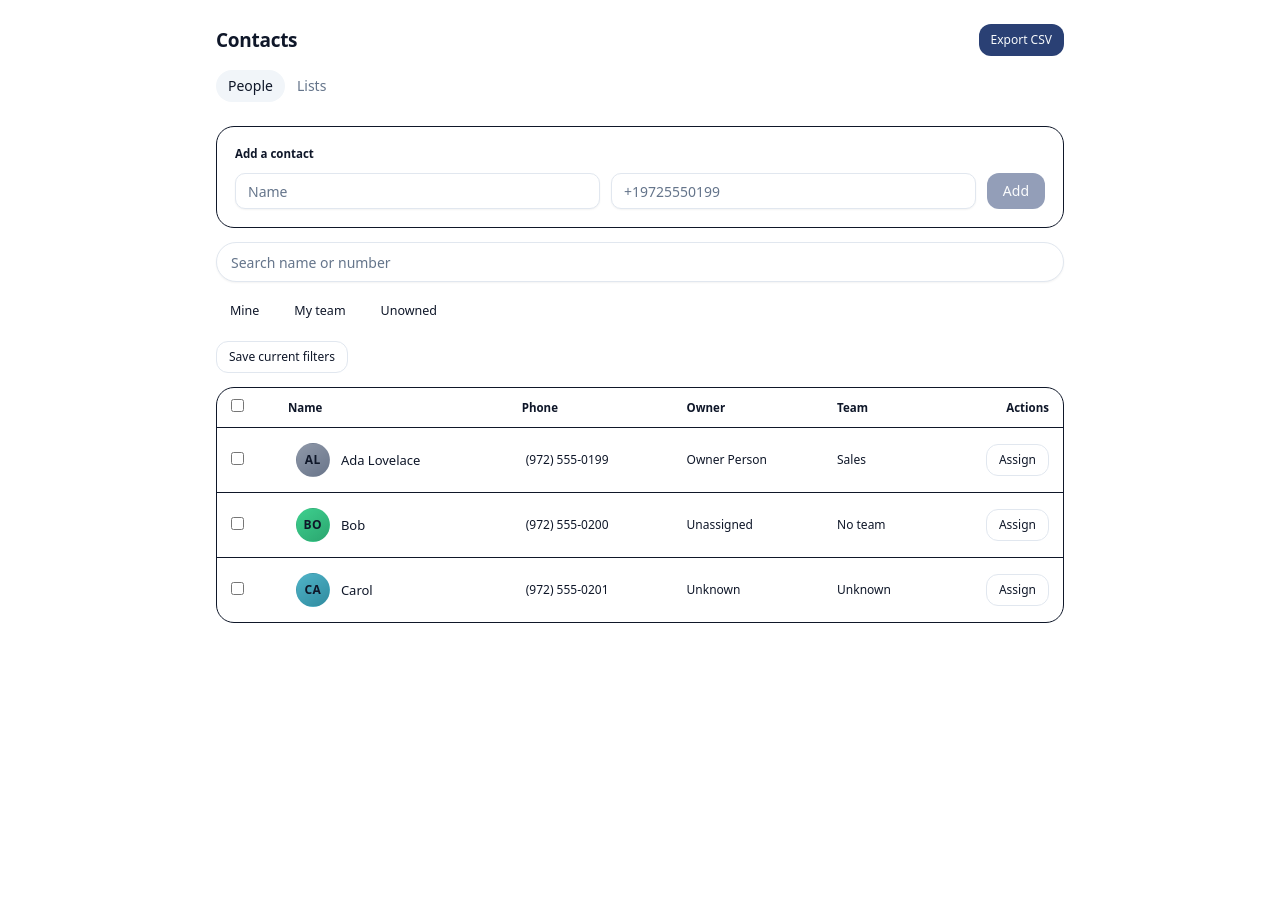
Test: ContactsPage › assigns a single contact via the row drawer
Expected: the button "AL Ada Lovelace" is shown, [288,439,428,481]
Click the button "Assign" in the row of "Owner Person" at coordinates (1017, 460), box [986,444,1049,476]
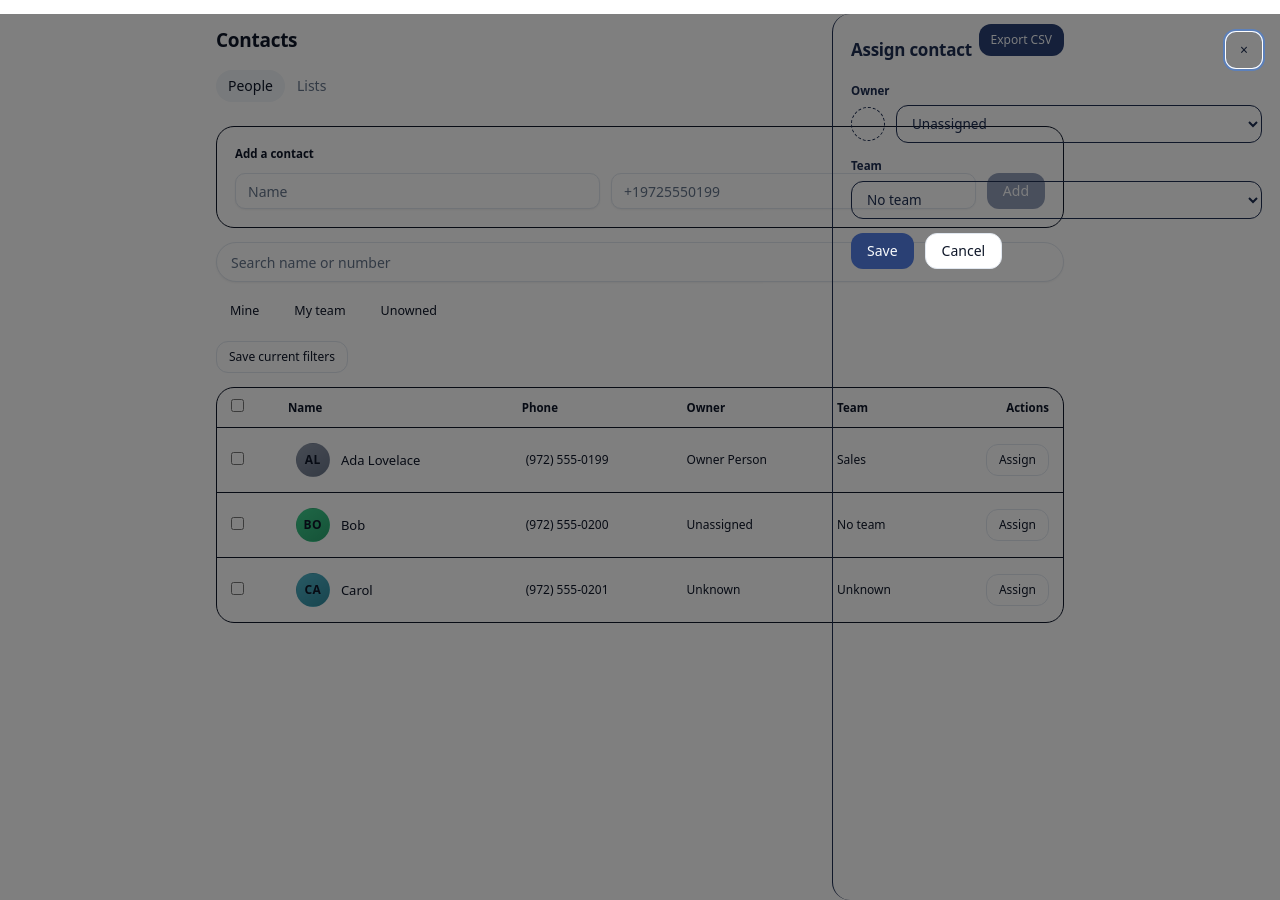
Now the dropdown labelled "Owner" is shown
Select "Agent Person" in the dropdown labelled "Owner" at coordinates (1079, 124), box [896,105,1262,143]
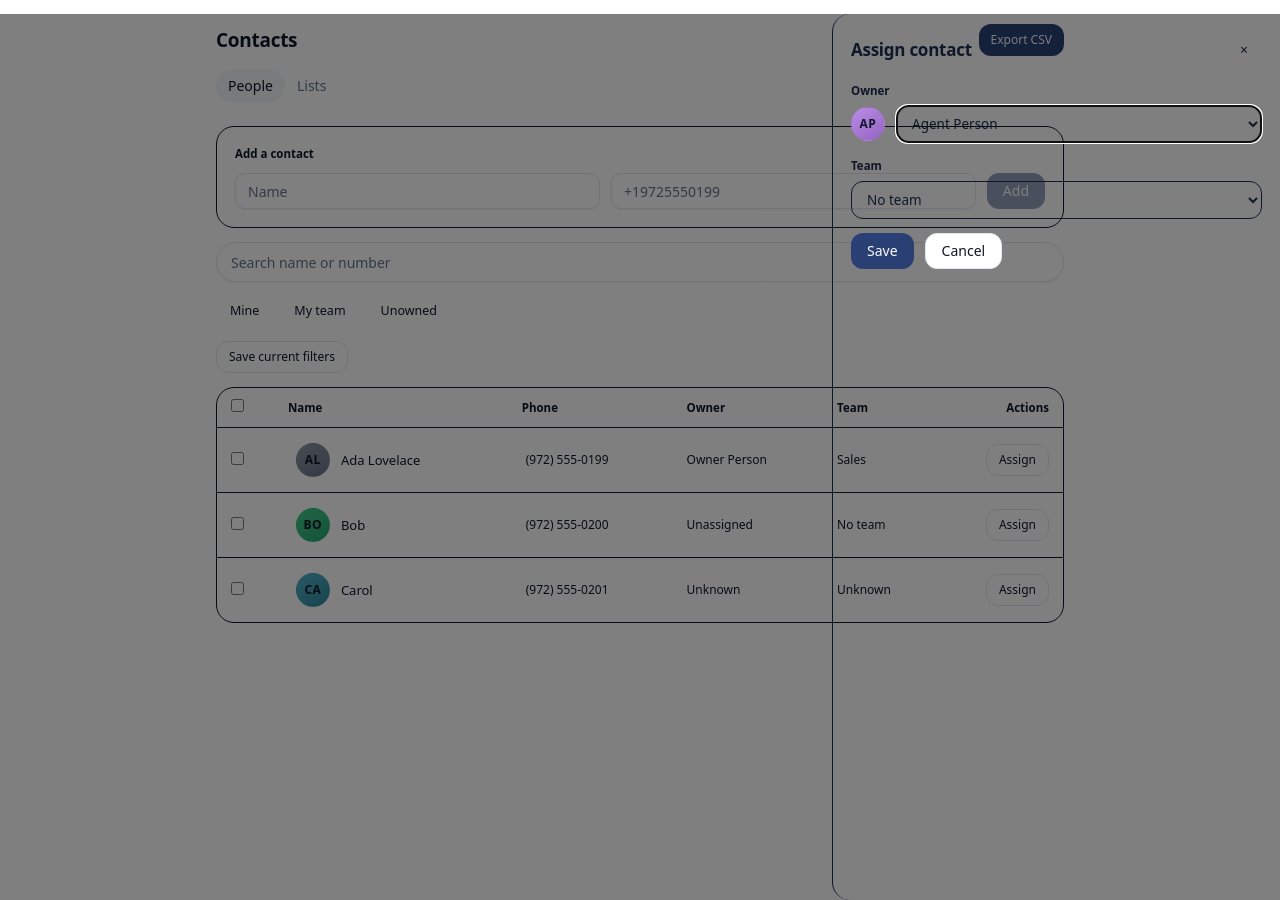
Select "Support" in the dropdown labelled "Team" at coordinates (1056, 200), box [851,180,1262,218]
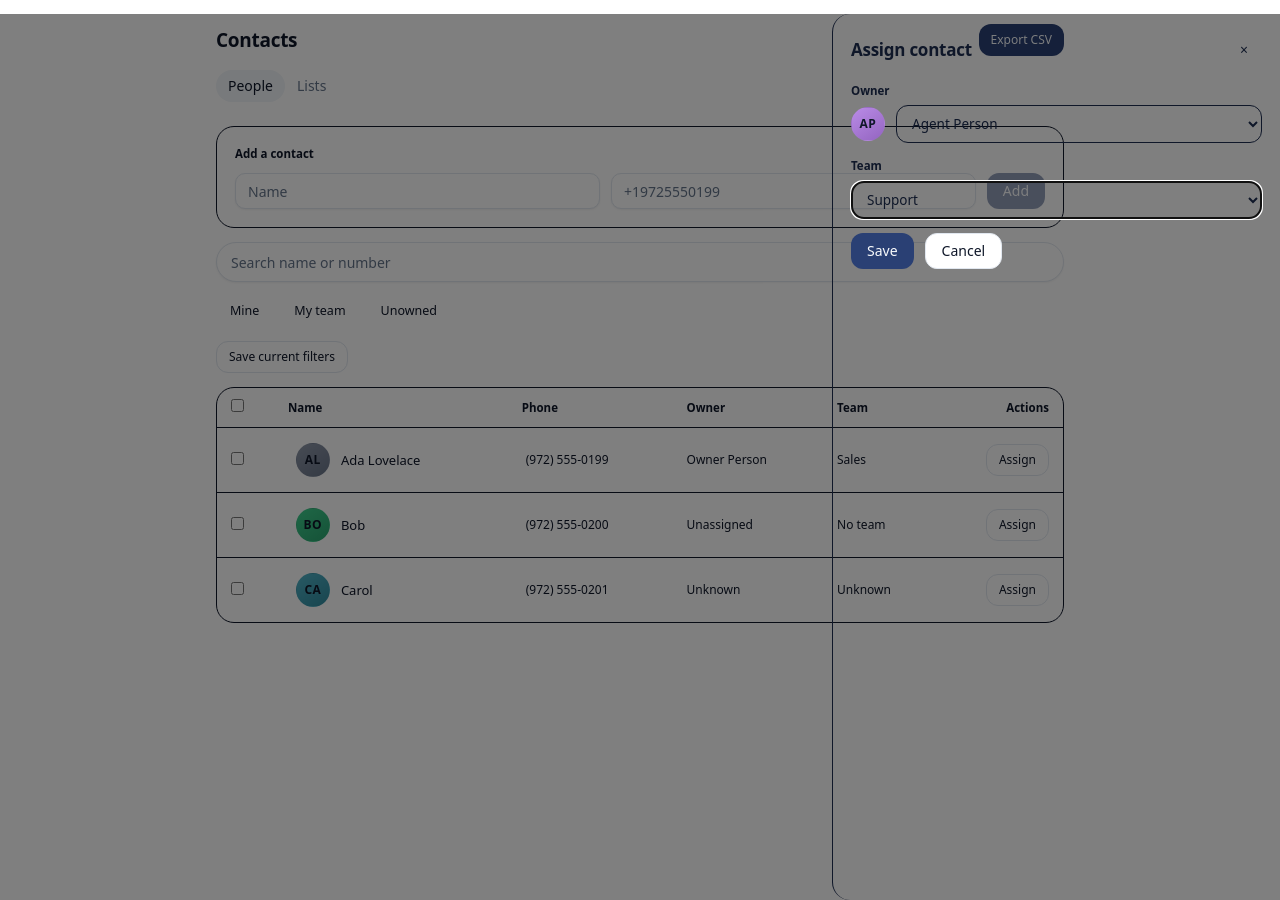
Click the button "Save" at coordinates (882, 250), box [851,232,914,268]
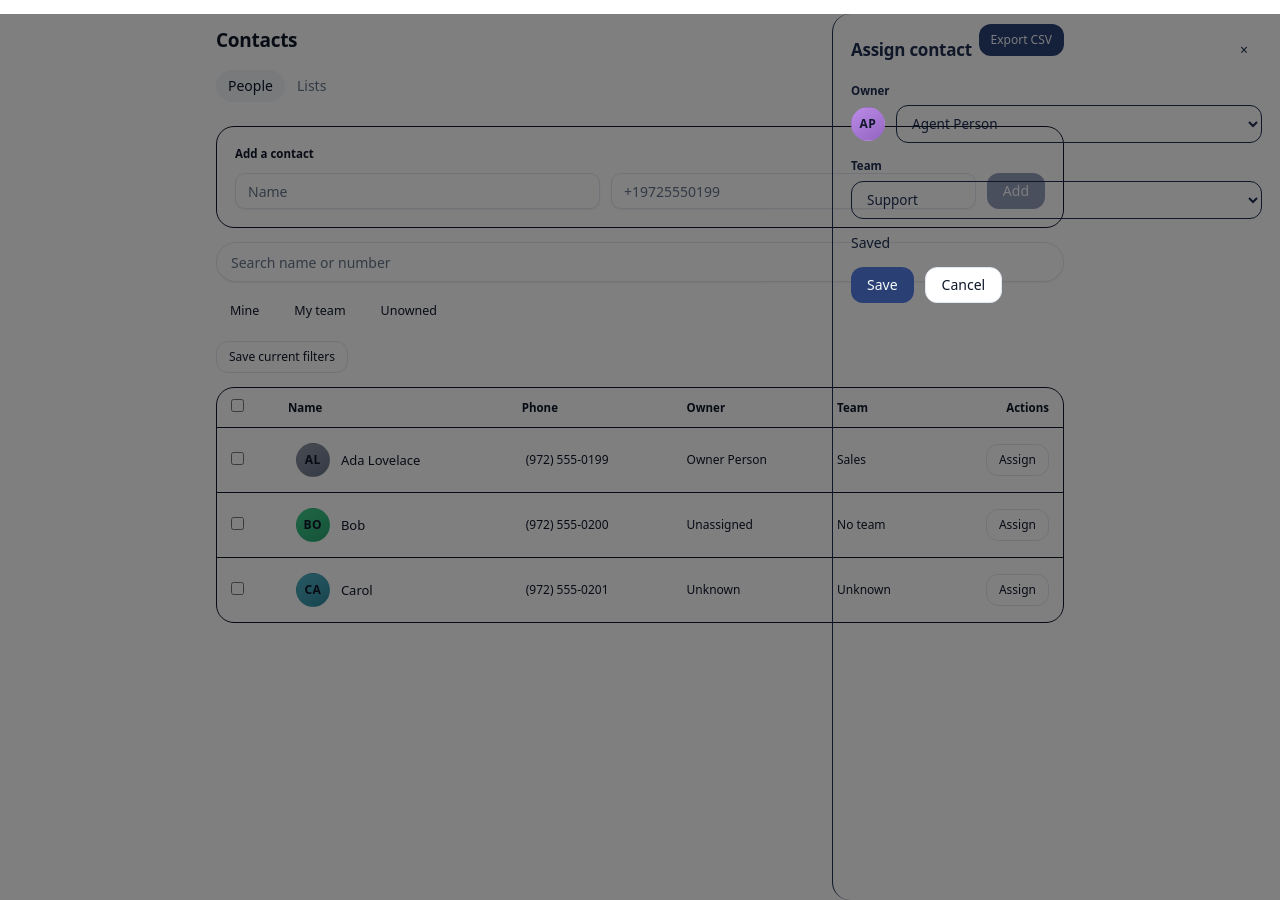
Now the text "Saved" is shown, box [851,232,890,252]
